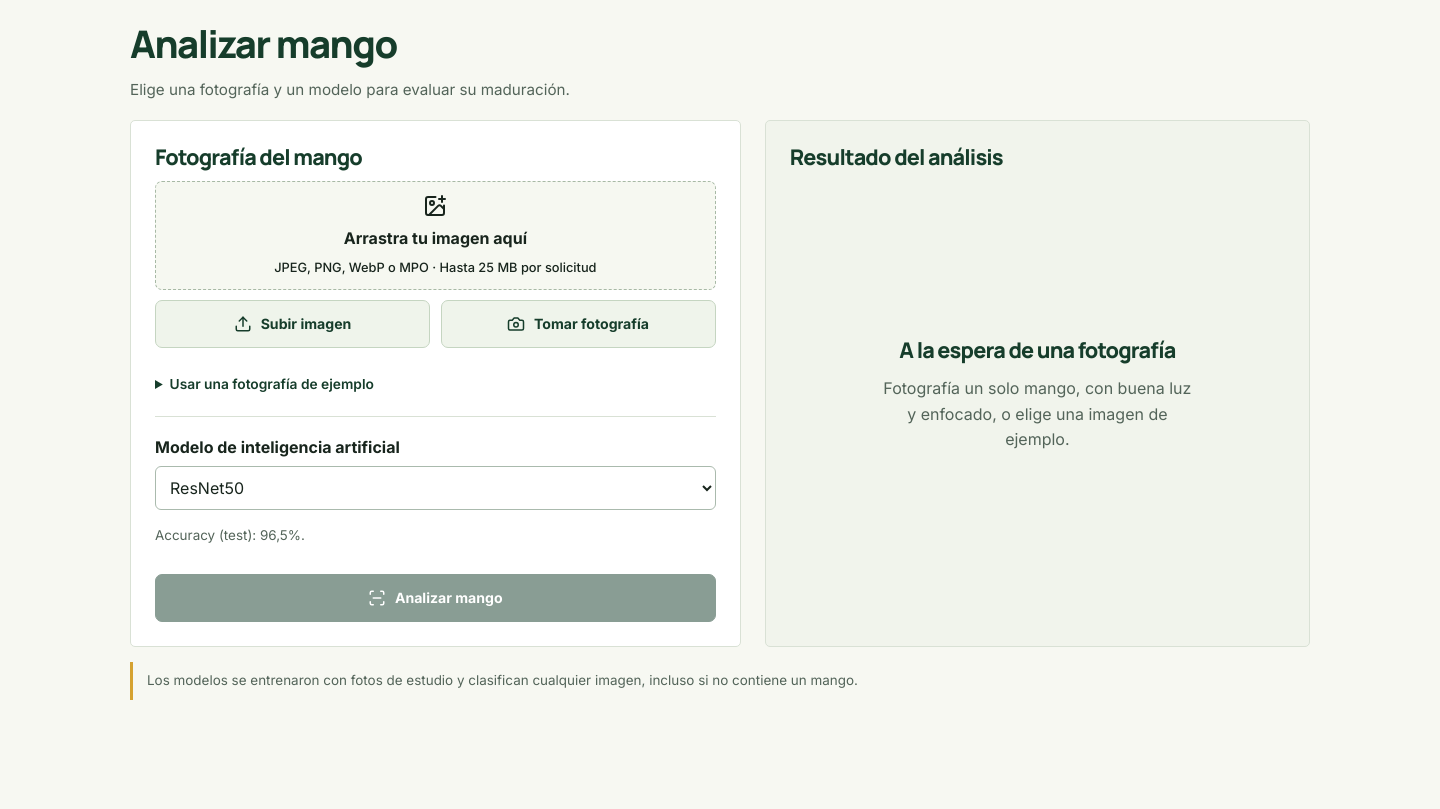
Test: Flujo de análisis › envía el ejemplo Verde solo después de confirmar
Step 1. Click the heading "Usar una fotografía de ejemplo" → (272, 384), box [170,376,374,392]
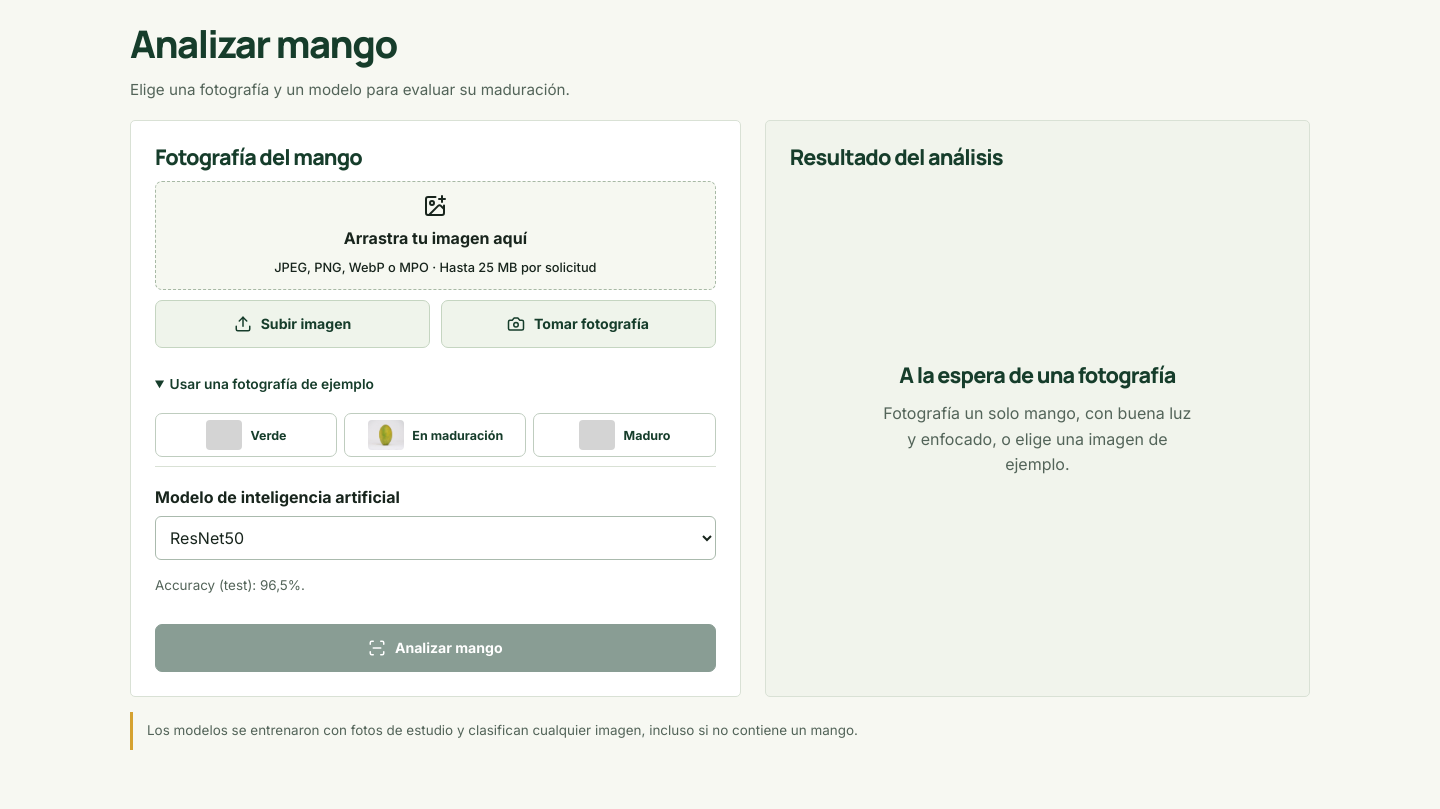
Step 2. Click the button "Verde" → (246, 435), box [155,413,337,457]
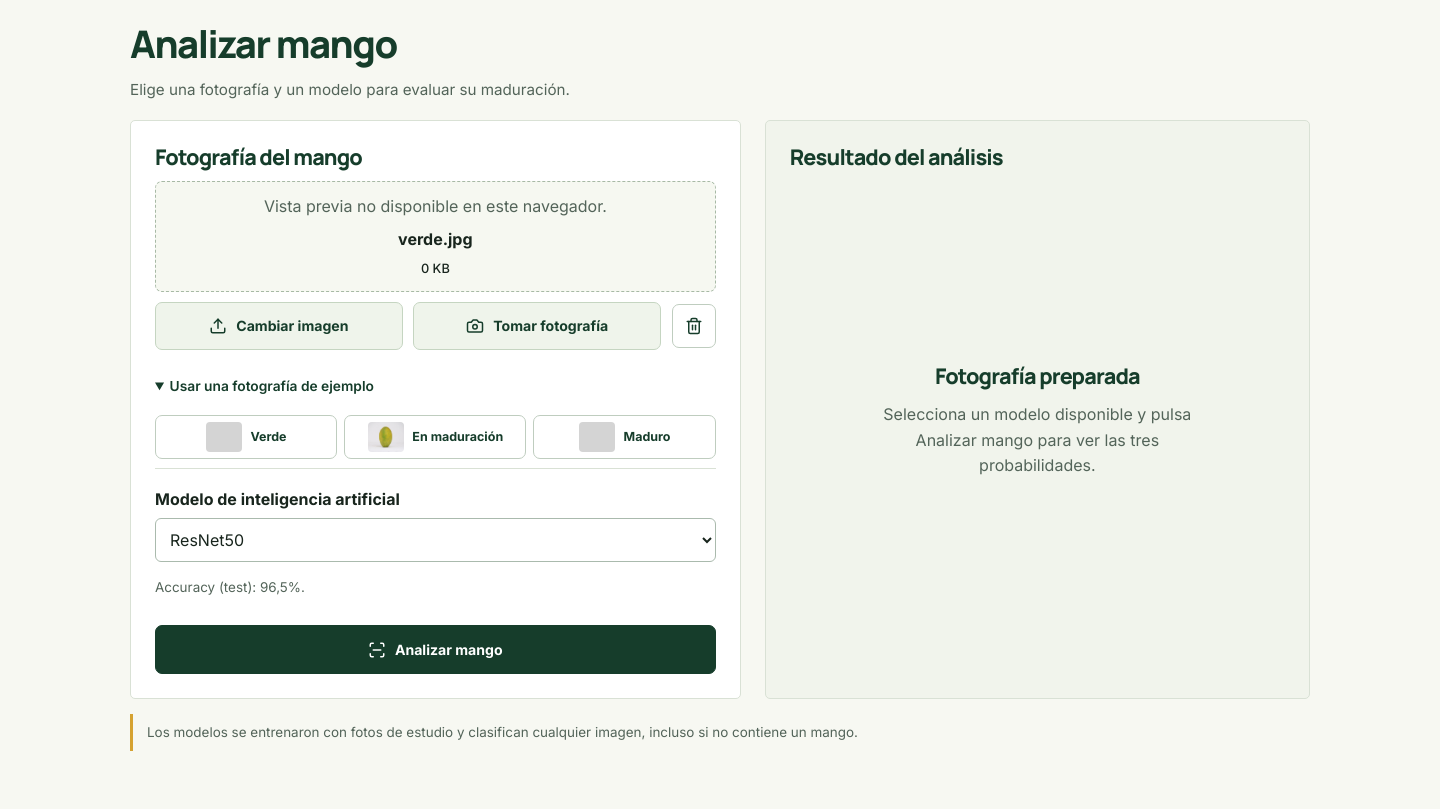
Step 3. Click the button "Analizar mango" → (435, 650), box [155,626,716,674]
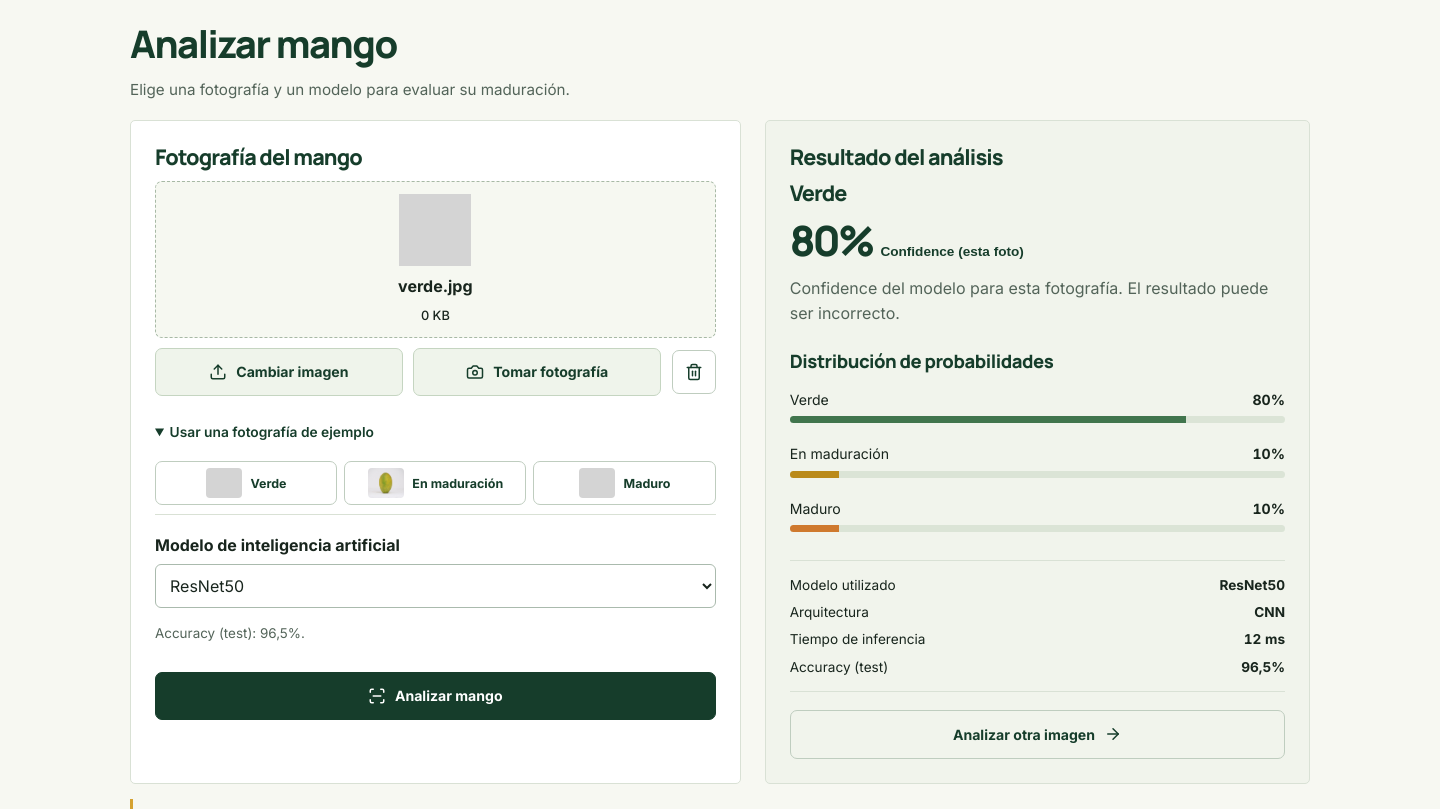
Expected: the text "12 ms" is shown, [1244,632,1285,648]
Expected: the heading "Verde" is shown, [790,178,847,207]
